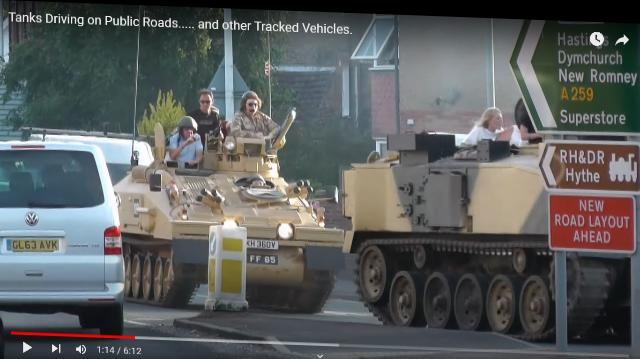other: (227, 87, 270, 133), (169, 114, 205, 158), (184, 85, 222, 122), (470, 101, 504, 135)
tank: (342, 152, 554, 327), (119, 152, 337, 308)
